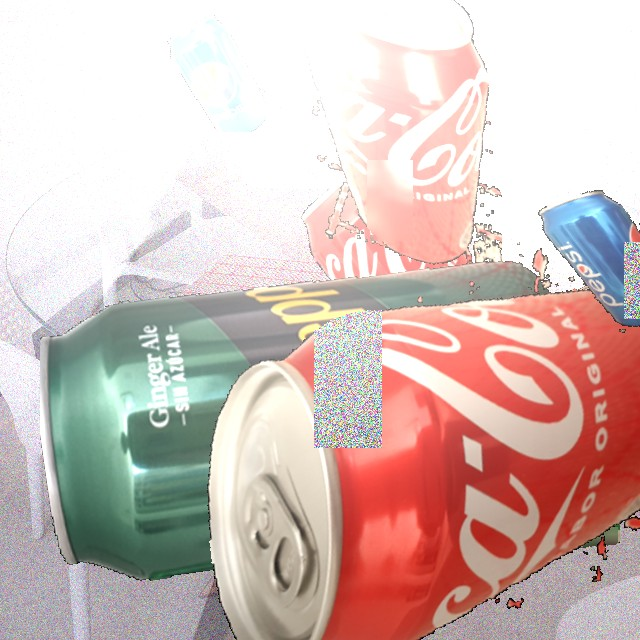coca cola: (135, 194, 640, 640), (282, 136, 538, 431), (305, 0, 502, 280)
pepsi: (529, 163, 640, 356), (542, 240, 640, 371), (165, 14, 266, 132)
schweppes: (40, 242, 584, 582)
sprite: (529, 487, 620, 558)
